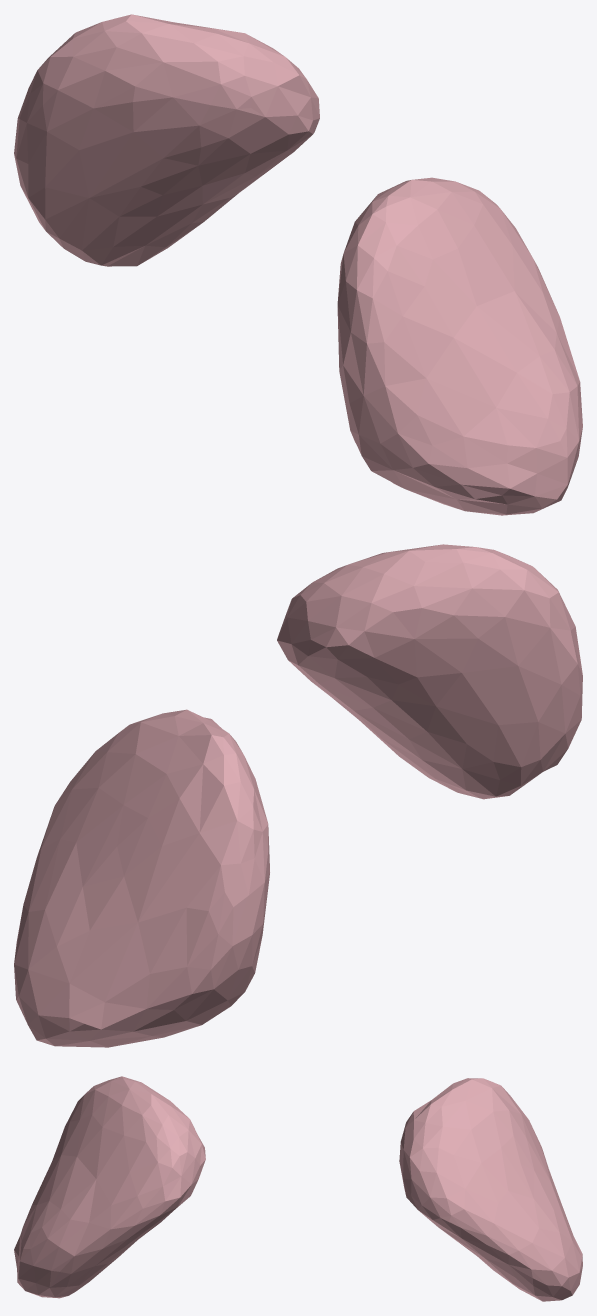
3 views of the same model, one above another, from view 1: azimuth 30°, elevation 25°; view 2: azimuth 150°, elevation 25°; view 3: azimuth 270°, elevation 25° (orthographic). The views are drawn at different scales.
Parts seen in each view (by area): view 1: 1096.obj; view 2: 1096.obj; view 3: 1096.obj.
Boxes of the visible parts, <box> form: 1096.obj: <box>14,14,582,515</box>; 1096.obj: <box>14,544,582,1047</box>; 1096.obj: <box>14,1076,582,1301</box>.
Size of the model in its own units: 620 by 698 by 1846.
